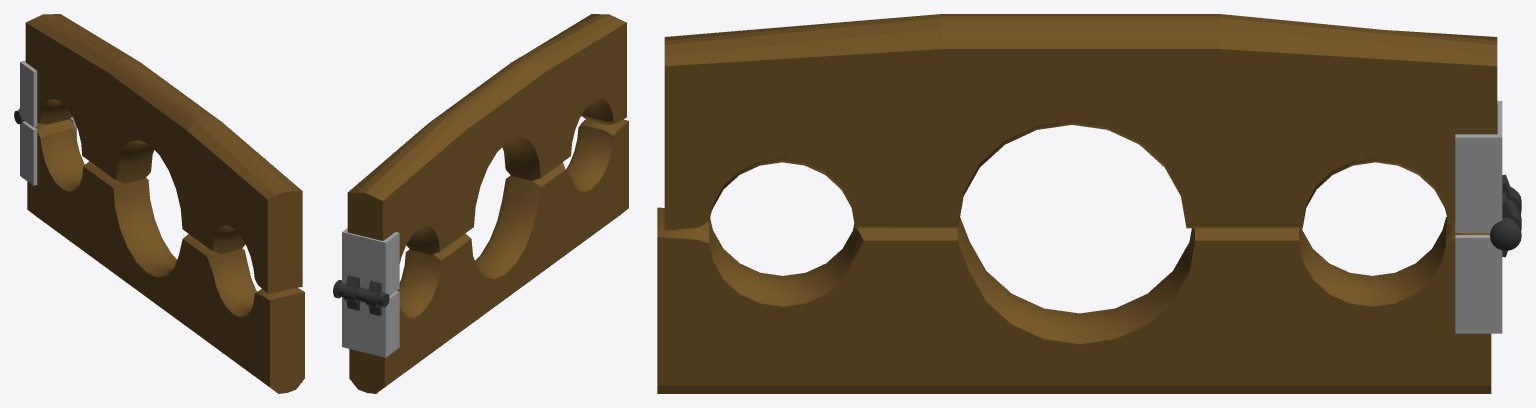
Rendered from Stockade2.fbx.
3 views of the same model, side by side, from view 1: azimuth 30°, elevation 25°; view 2: azimuth 150°, elevation 25°; view 3: azimuth 270°, elevation 25° (orthographic). The views are drawn at different scales.
Visible parts, largest first — view 1: pCube4, pCube6, pCube7, pCube5; view 2: pCube4, pCube6, pCube5, pCube7, pCylinder4; view 3: pCube4, pCube6, pCube5, pCube7, pCylinder4.
Boxes of the visible parts, left/top/right/bottom form: pCube4: left=25, top=14, right=302, bottom=293; pCube6: left=27, top=119, right=304, bottom=393; pCube7: left=20, top=117, right=76, bottom=185; pCube5: left=20, top=60, right=37, bottom=127; pCube4: left=347, top=14, right=626, bottom=263; pCube6: left=349, top=119, right=628, bottom=393; pCube5: left=342, top=228, right=399, bottom=295; pCube7: left=342, top=291, right=399, bottom=357; pCylinder4: left=333, top=275, right=389, bottom=315; pCube4: left=664, top=14, right=1497, bottom=230; pCube6: left=657, top=207, right=1491, bottom=393; pCube5: left=1455, top=101, right=1502, bottom=232; pCube7: left=1455, top=235, right=1502, bottom=333; pCylinder4: left=1490, top=174, right=1521, bottom=257.
Bounding box in the file's own units: 0.5144 × 2.11 × 4.46.
